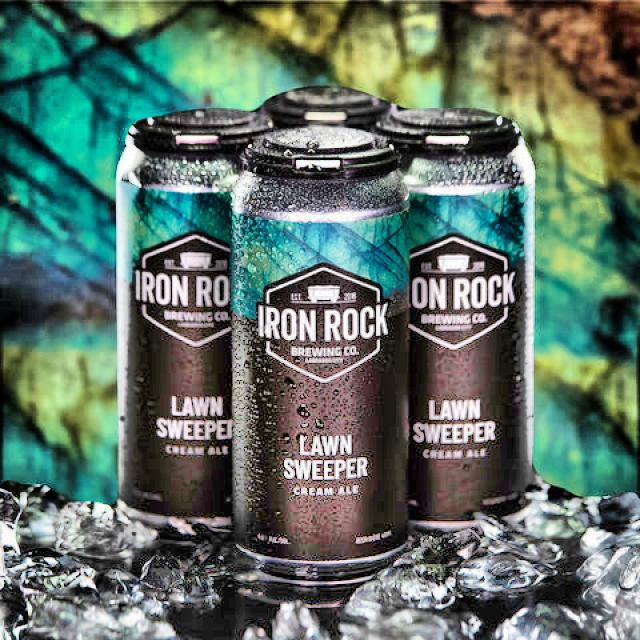can: (228, 121, 410, 587), (115, 104, 277, 532), (382, 103, 539, 536)
